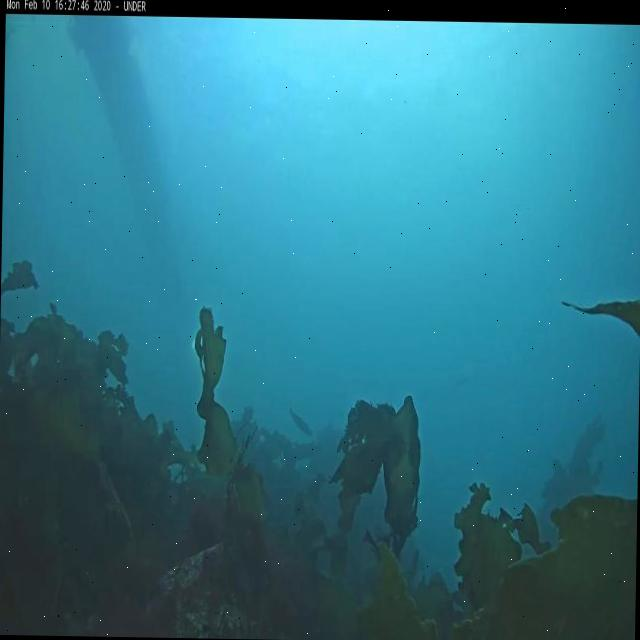fish: (288, 408, 312, 436)
